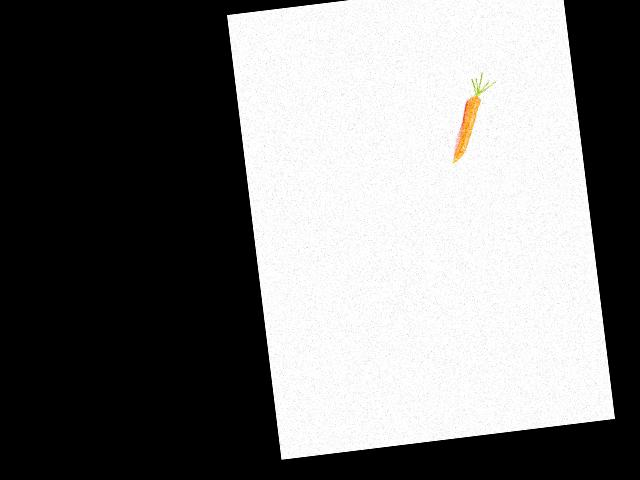carrot: (443, 87, 493, 165)
